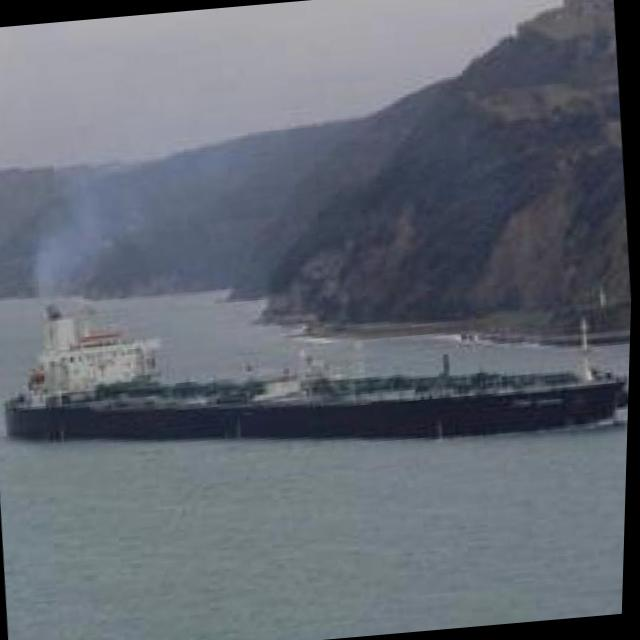ship2: (4, 300, 631, 445)
